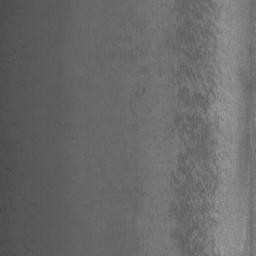Silk spot: (168, 62, 225, 256), (175, 0, 217, 69), (199, 0, 217, 19), (133, 176, 144, 196), (128, 47, 144, 60), (211, 236, 221, 256), (215, 113, 222, 130), (171, 171, 179, 185), (135, 88, 146, 97)
